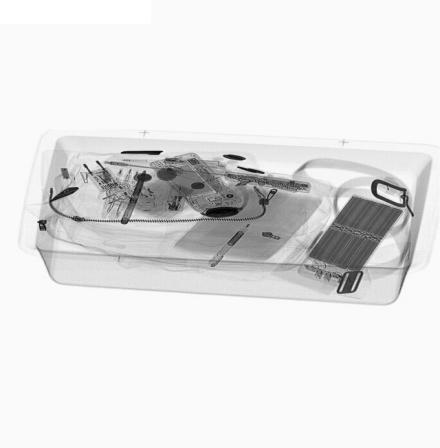Lighter: (162, 157, 221, 167)
